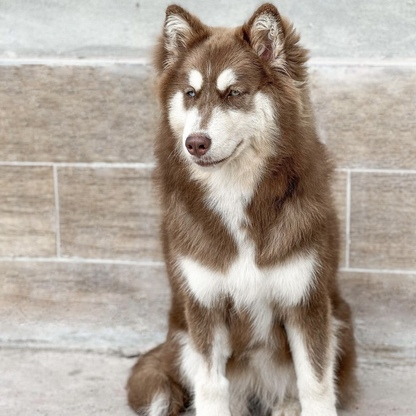husky: (119, 1, 366, 416)
